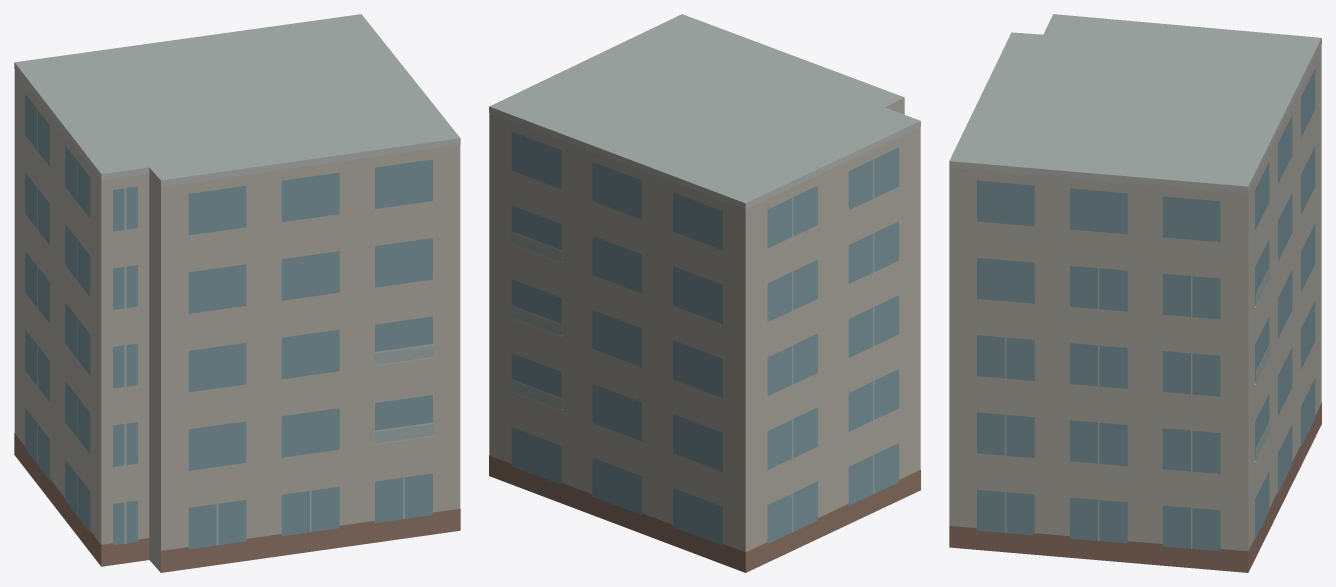
File: survey-upis-32719223.glb
The picture shows the model from 3 angles, left to right: view 1: azimuth 30°, elevation 25°; view 2: azimuth 150°, elevation 25°; view 3: azimuth 270°, elevation 25°; orthographic projection. The views are drawn at different scales.
Visible parts, largest first — view 1: survey-upis-32719223.tmp; view 2: survey-upis-32719223.tmp; view 3: survey-upis-32719223.tmp.
Part boxes in pixels (<box>): survey-upis-32719223.tmp: <box>14,14,460,572</box>; survey-upis-32719223.tmp: <box>489,14,920,572</box>; survey-upis-32719223.tmp: <box>949,14,1321,572</box>.
Bounding box in the file's own units: 13.9 × 14.5 × 12.68.
